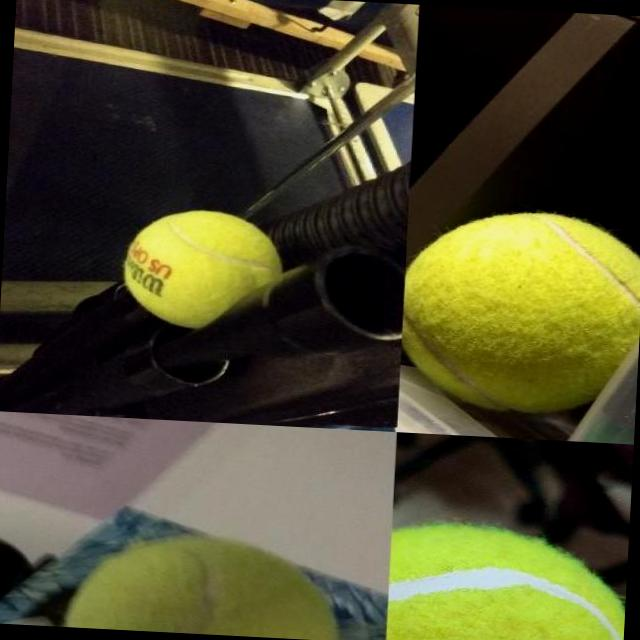Tennis Ball: (401, 200, 625, 374), (61, 527, 347, 640), (386, 522, 628, 640), (121, 206, 286, 275)
